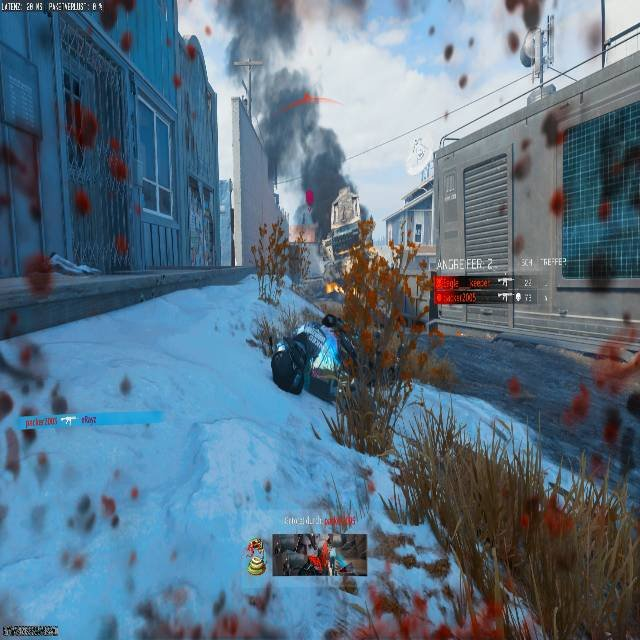head: (300, 125, 347, 198)
